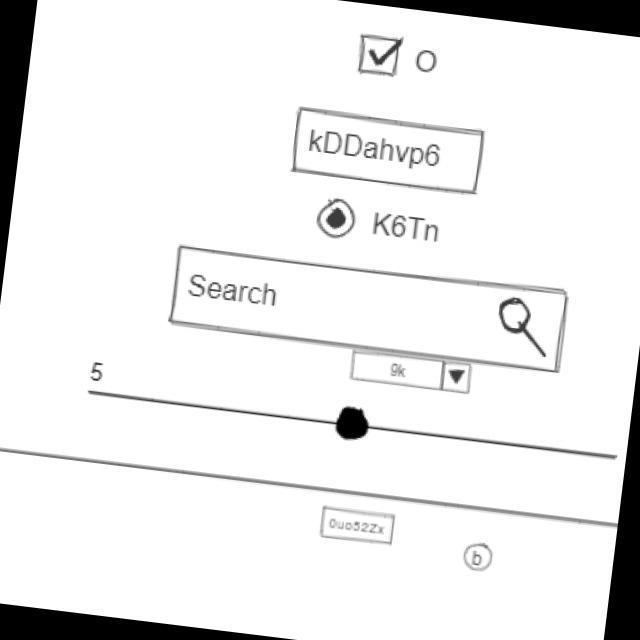button: (317, 504, 400, 550)
checkbox: (354, 31, 442, 86)
container: (1, 441, 618, 640)
icon-button: (461, 540, 496, 574)
input: (286, 104, 490, 200)
radio: (315, 196, 358, 253)
search: (168, 241, 575, 377)
select: (349, 349, 475, 398)
slider: (98, 374, 623, 475)
